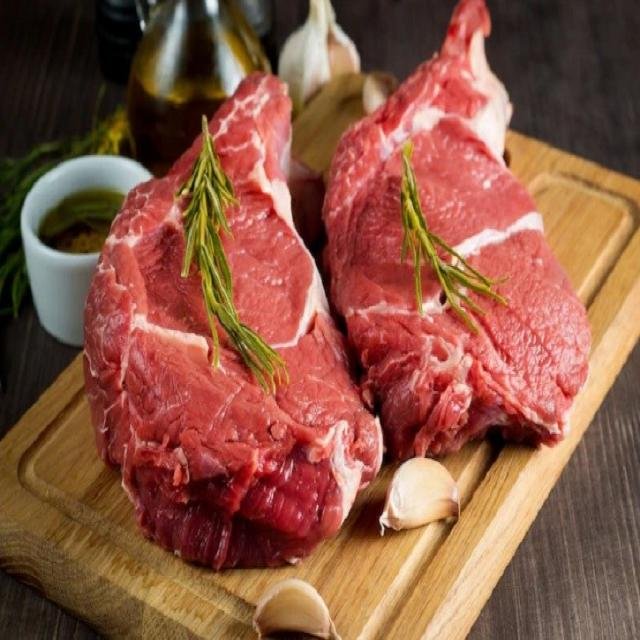beef: (72, 60, 379, 578), (332, 0, 615, 485)
